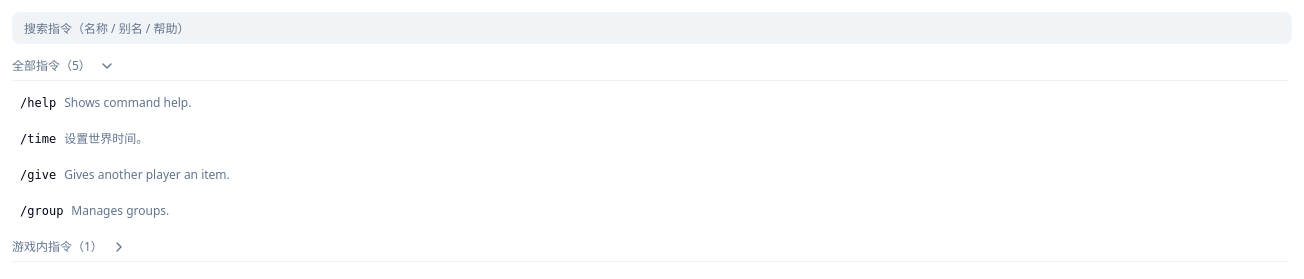
Test case: CommandPickerPanel（指令列表） › 搜索只命中「游戏内」指令时自动展开
In the field with placeholder "搜索指令（名称 / 别名 / 帮助）": (652, 28) [12,12,1292,44], type "item"
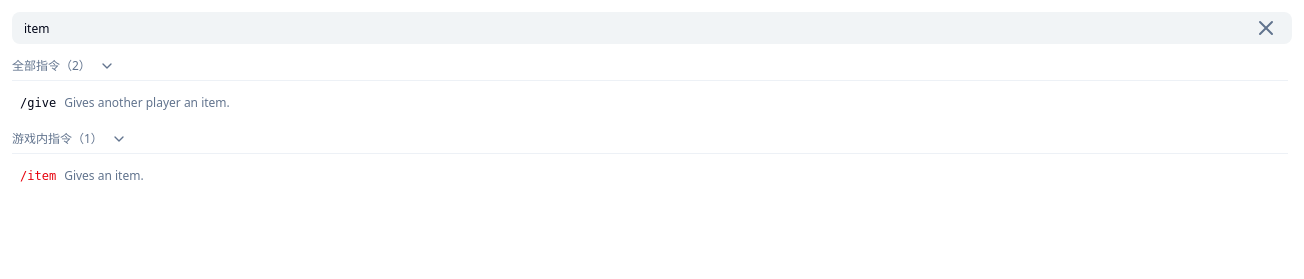
Expected: the text "/item" is shown, [20,166,56,186]
